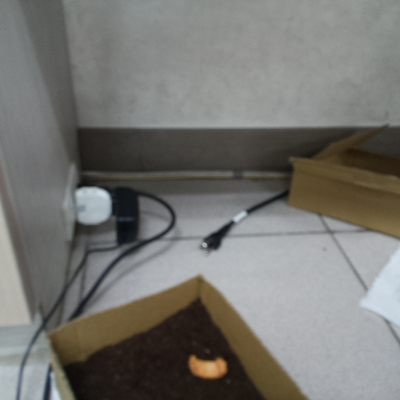eggs: (184, 348, 234, 384)
